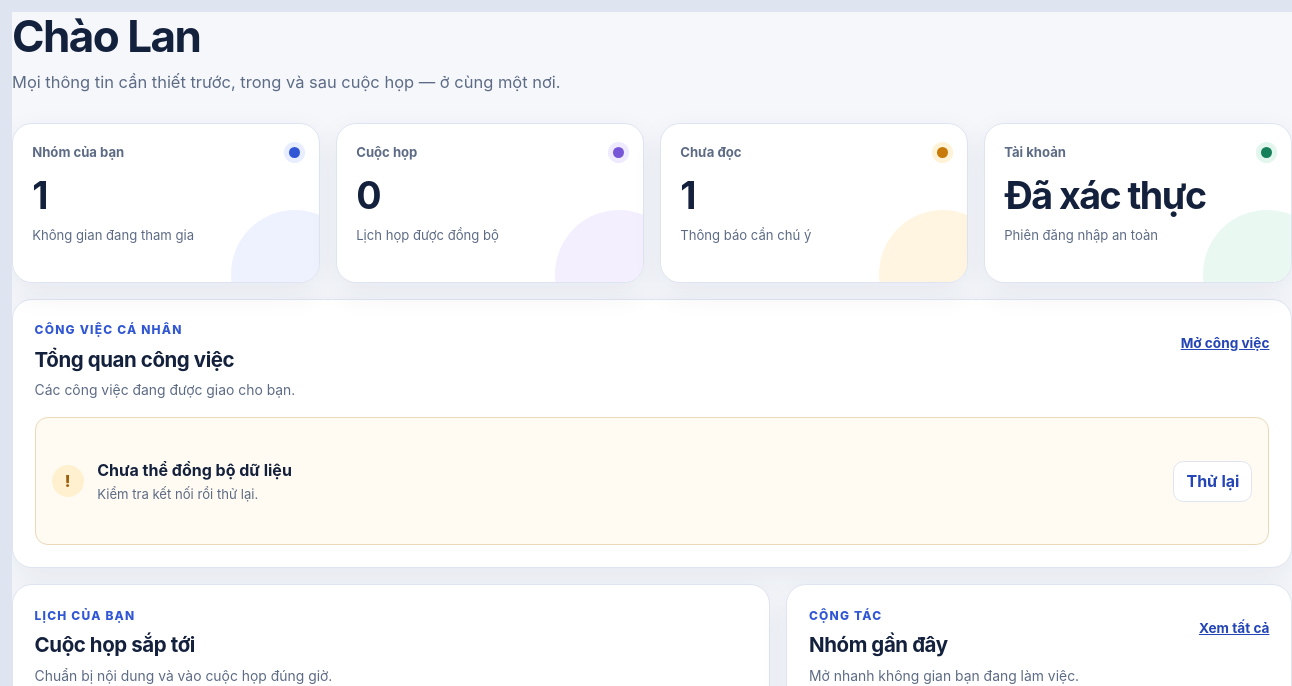
Test: DashboardPage › cô lập lỗi task summary, không hiển thị số giả và cho phép thử lại
Expected: the text "Chưa thể đồng bộ dữ liệu" is shown, [97,460,292,480]
Expected: the heading "Cuộc họp sắp tới" is shown, [35,632,195,657]
What coordinates should you click on to do the following:
click the button "Thử lại"
I would click on:
 (1213, 481)
Its box is [1174,461,1252,502].
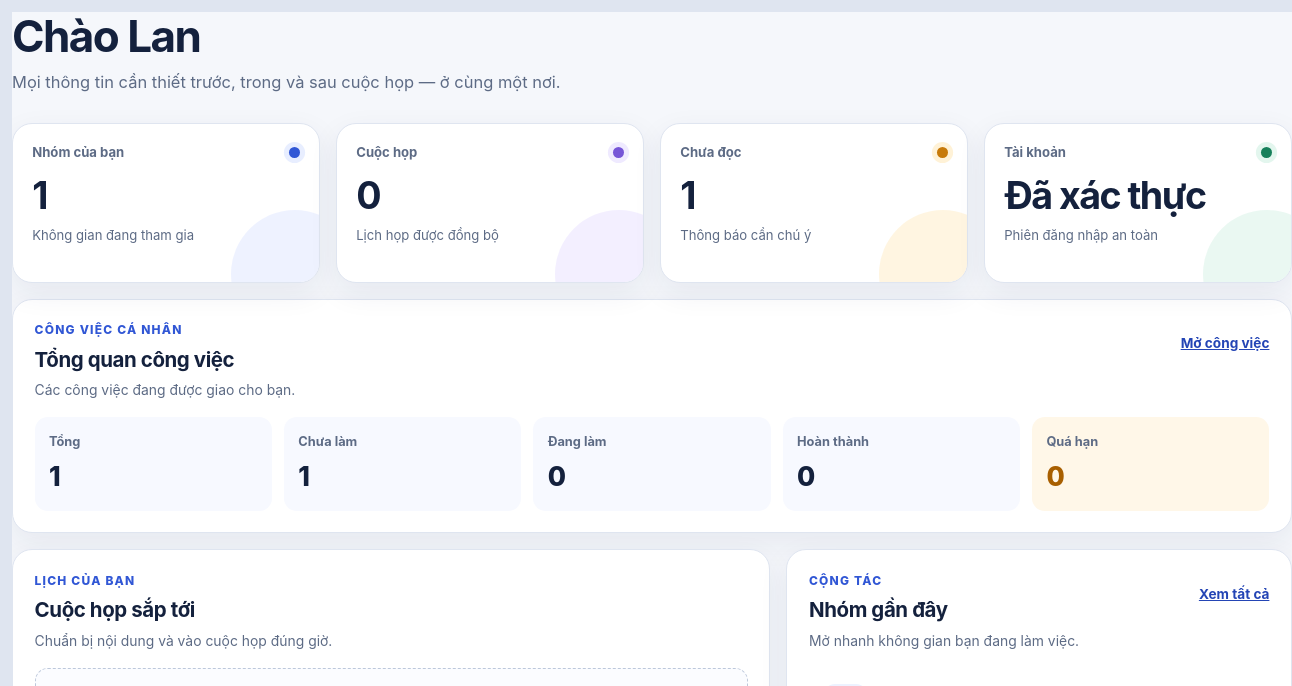
Expected: the 3rd text "1" is shown, [49,460,61,492]
